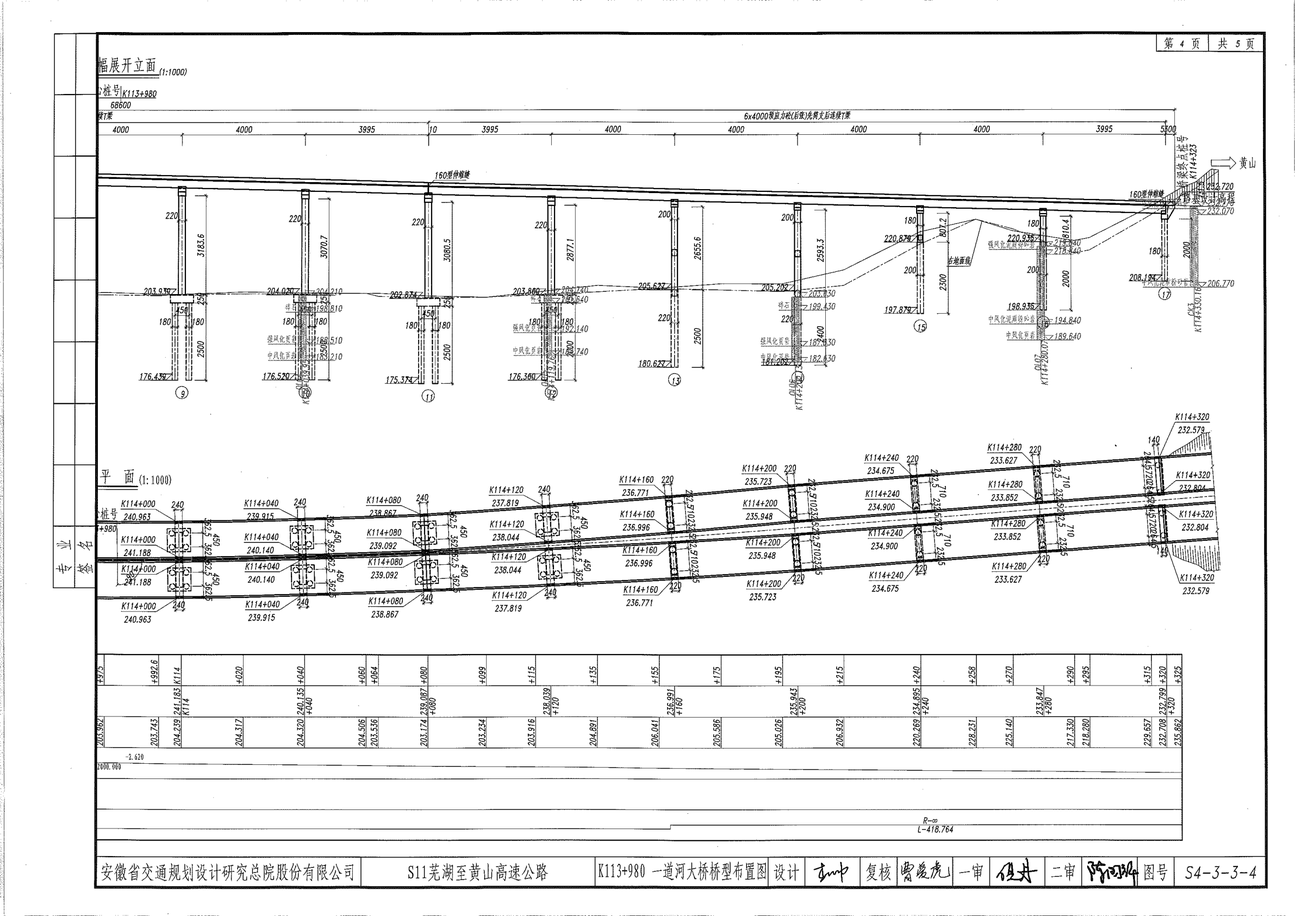A: (85, 45, 1235, 413)
